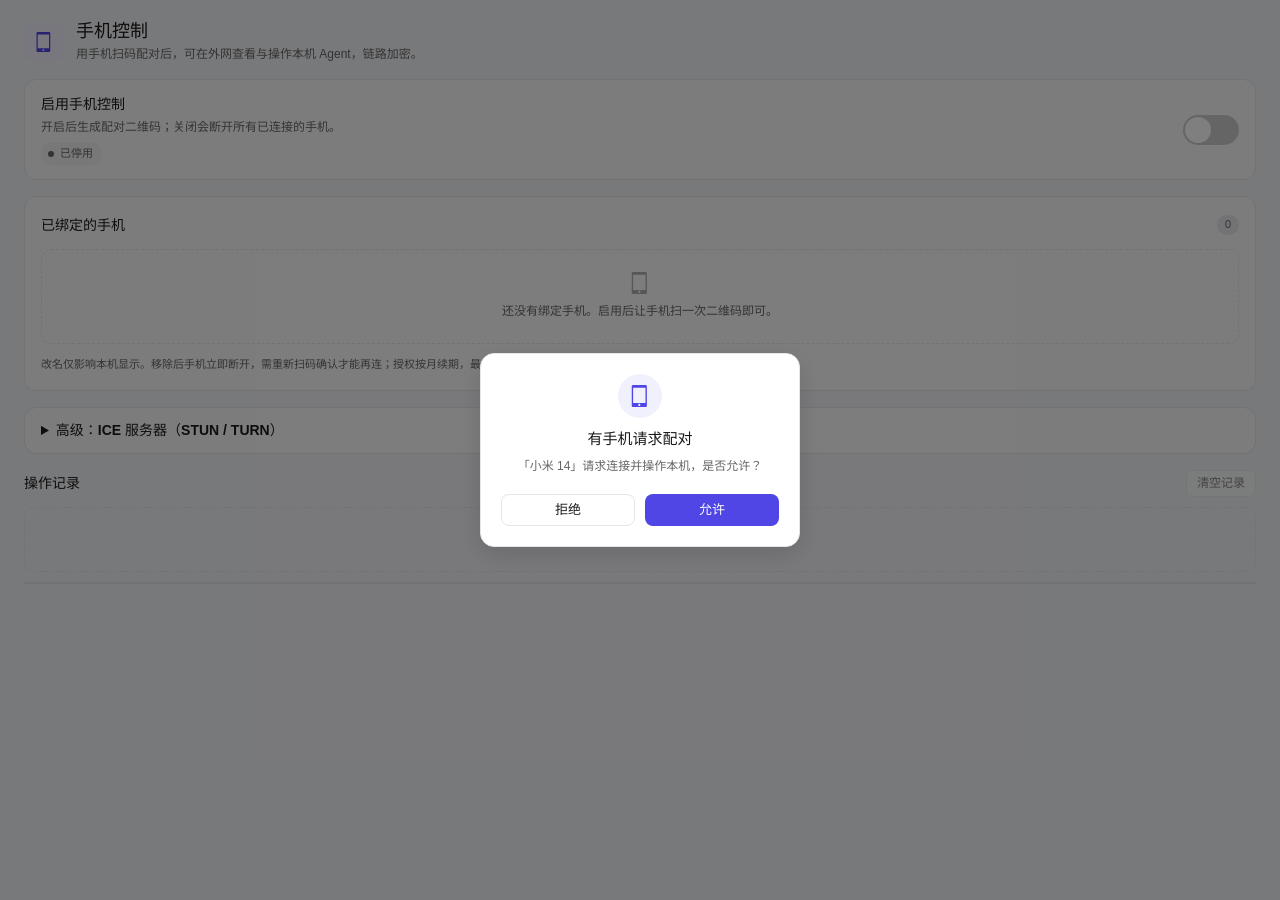
Test: 设置页 —— 配对确认弹窗 › 点「允许」→ 交回 true 并收起弹窗
Step 1. Click the button "允许" → (712, 510), box [645,494,779,526]
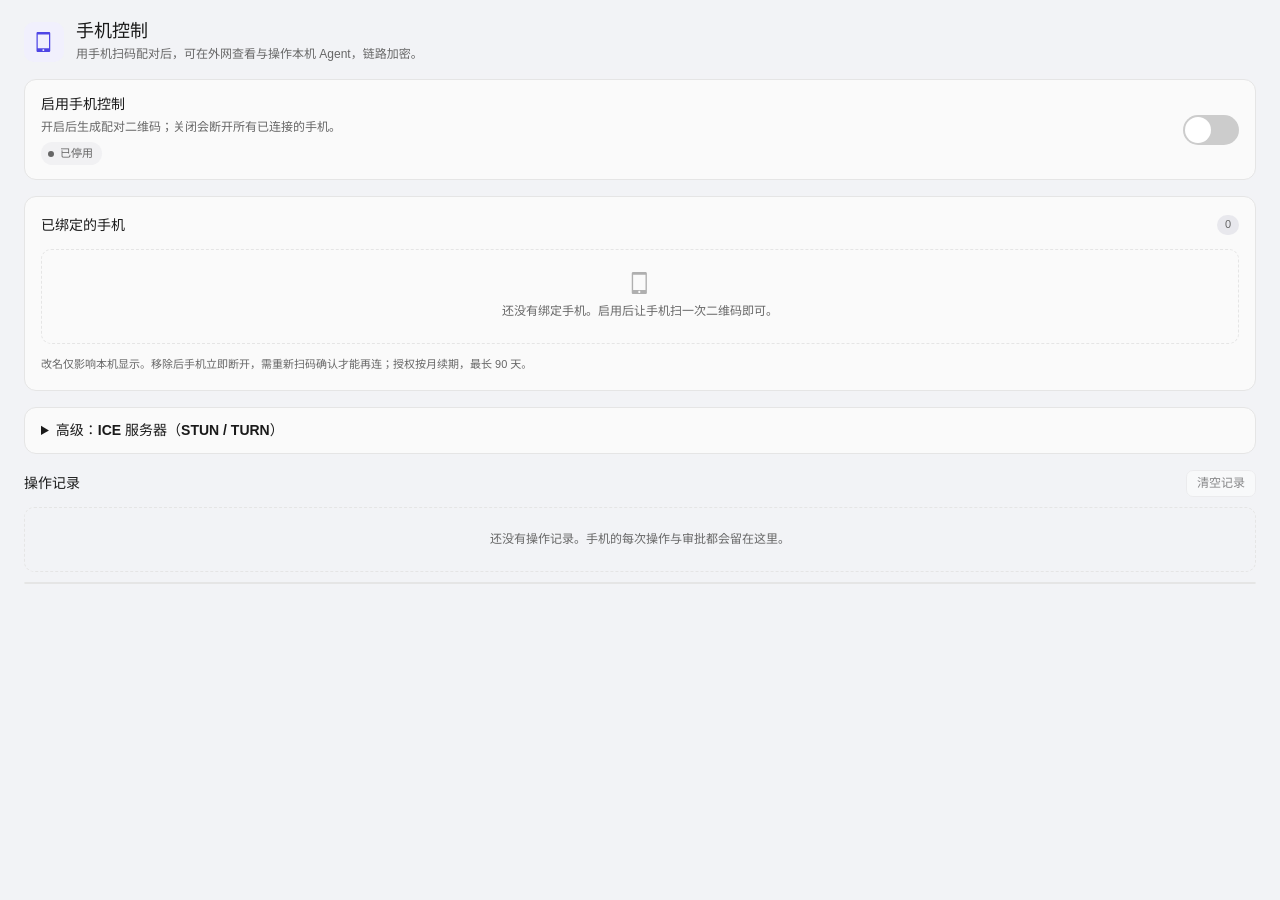
Expected: the dialog is gone
